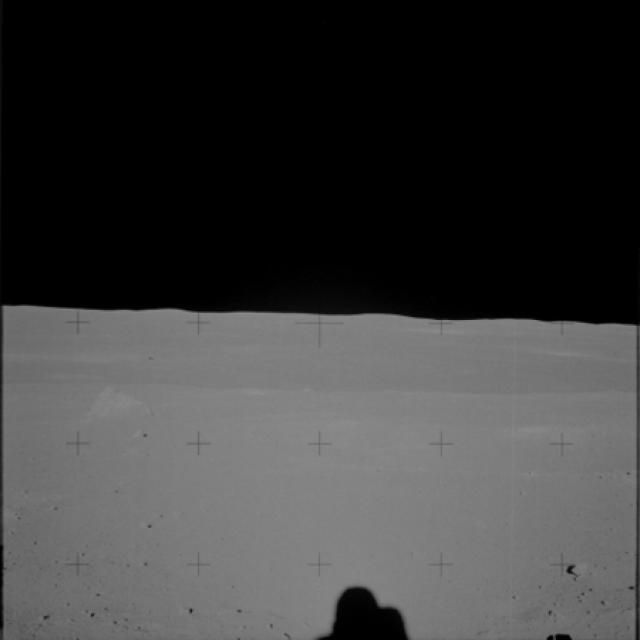crater: (11, 478, 120, 508), (562, 561, 593, 580)
rock: (81, 382, 163, 426)
